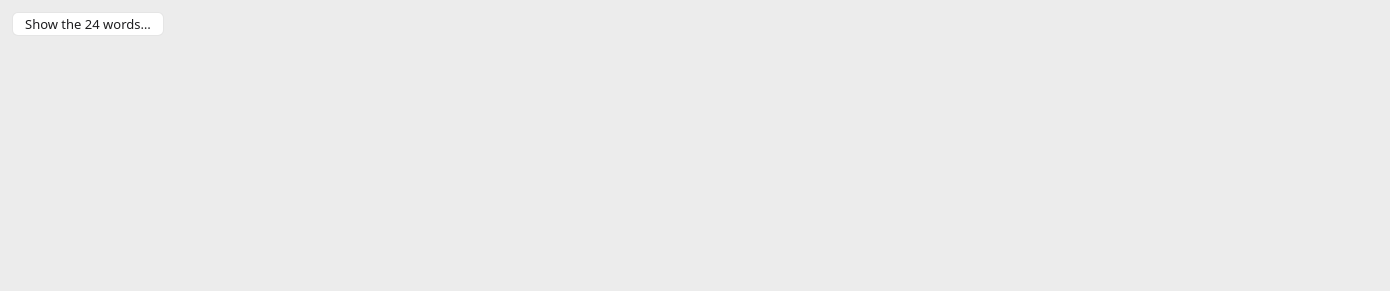
Test case: WordsReveal › loads the words and QR only after the confirmation
Confirm stage: the warning shows, but the words still aren't asked for.
What coordinates should you click on to do the following:
click the button "Show the 24 words…"
I would click on:
 (88, 24)
Its box is [12,12,164,36].
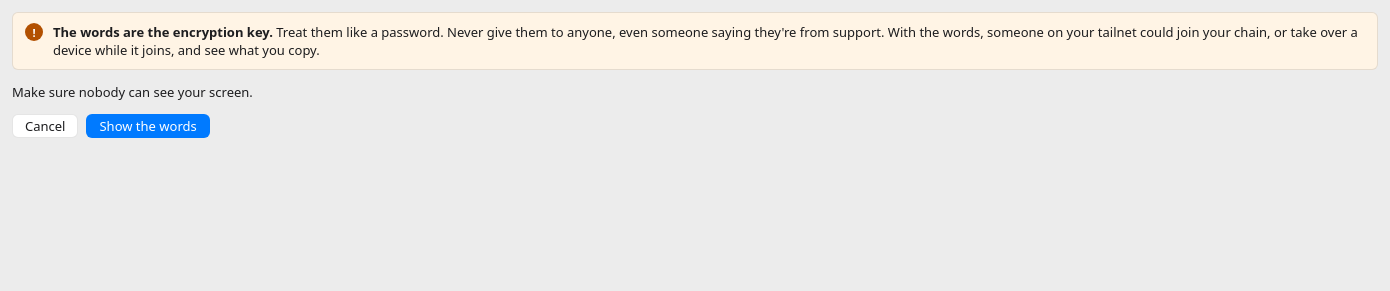
What coordinates should you click on to do the following:
click the button "Show the words"
I would click on:
 (148, 126)
Its box is [86,114,210,138].
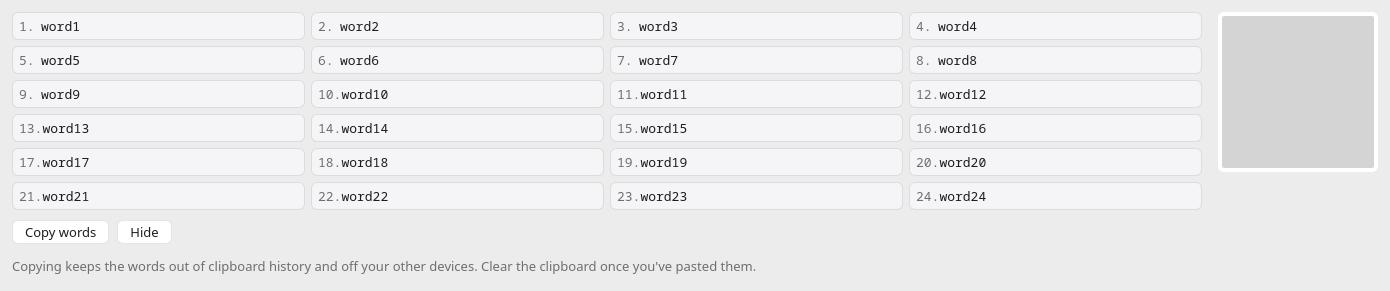
Expected: the number of list items is 24
